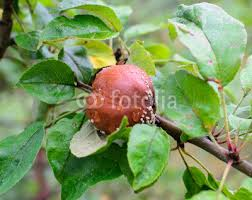damaged_apple: (84, 62, 164, 134)
